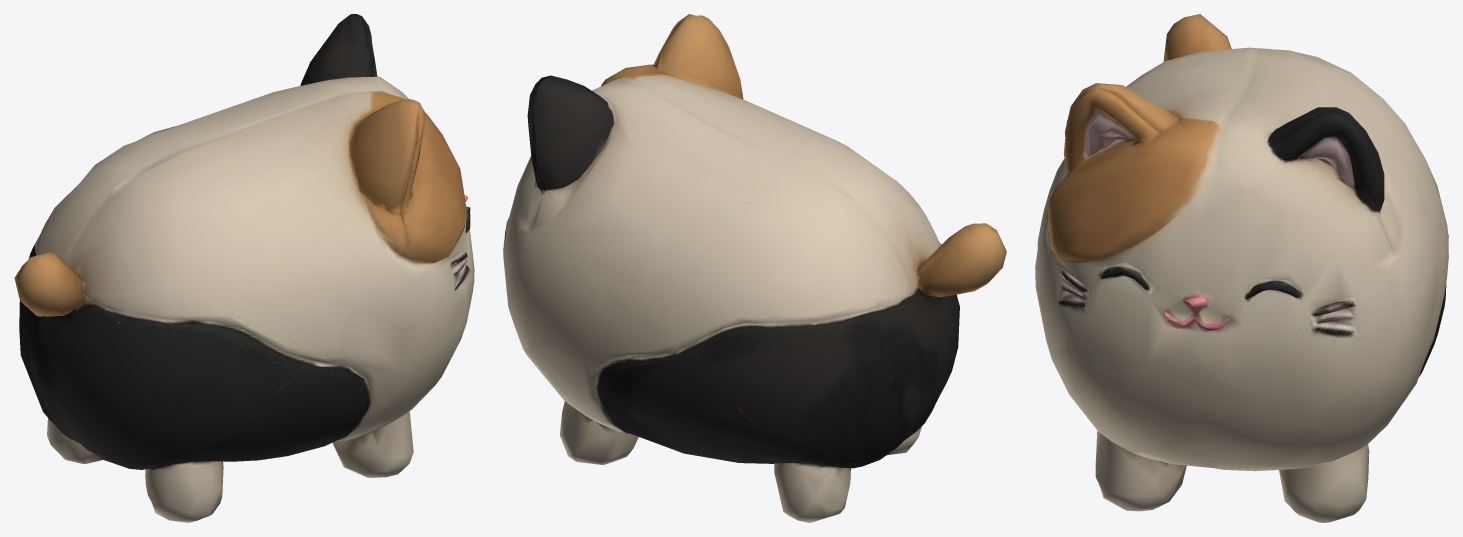
The model's file is CAMTHECAT-lo.glb.
3 views of the same model, side by side, from view 1: azimuth 30°, elevation 25°; view 2: azimuth 150°, elevation 25°; view 3: azimuth 270°, elevation 25° (orthographic). The views are drawn at different scales.
Visible parts, largest first — view 1: tripo_node_ac03a32a-3ae7-46f4-91dc-179a8fb92cd0; view 2: tripo_node_ac03a32a-3ae7-46f4-91dc-179a8fb92cd0; view 3: tripo_node_ac03a32a-3ae7-46f4-91dc-179a8fb92cd0.
Part boxes in pixels (x1,y1,x2,y2): tripo_node_ac03a32a-3ae7-46f4-91dc-179a8fb92cd0: [14, 14, 474, 522]; tripo_node_ac03a32a-3ae7-46f4-91dc-179a8fb92cd0: [503, 14, 1006, 522]; tripo_node_ac03a32a-3ae7-46f4-91dc-179a8fb92cd0: [1035, 14, 1448, 522].
Bounding box in the file's own units: 1.24 × 1 × 0.8663.
1 material, 1 textured.
